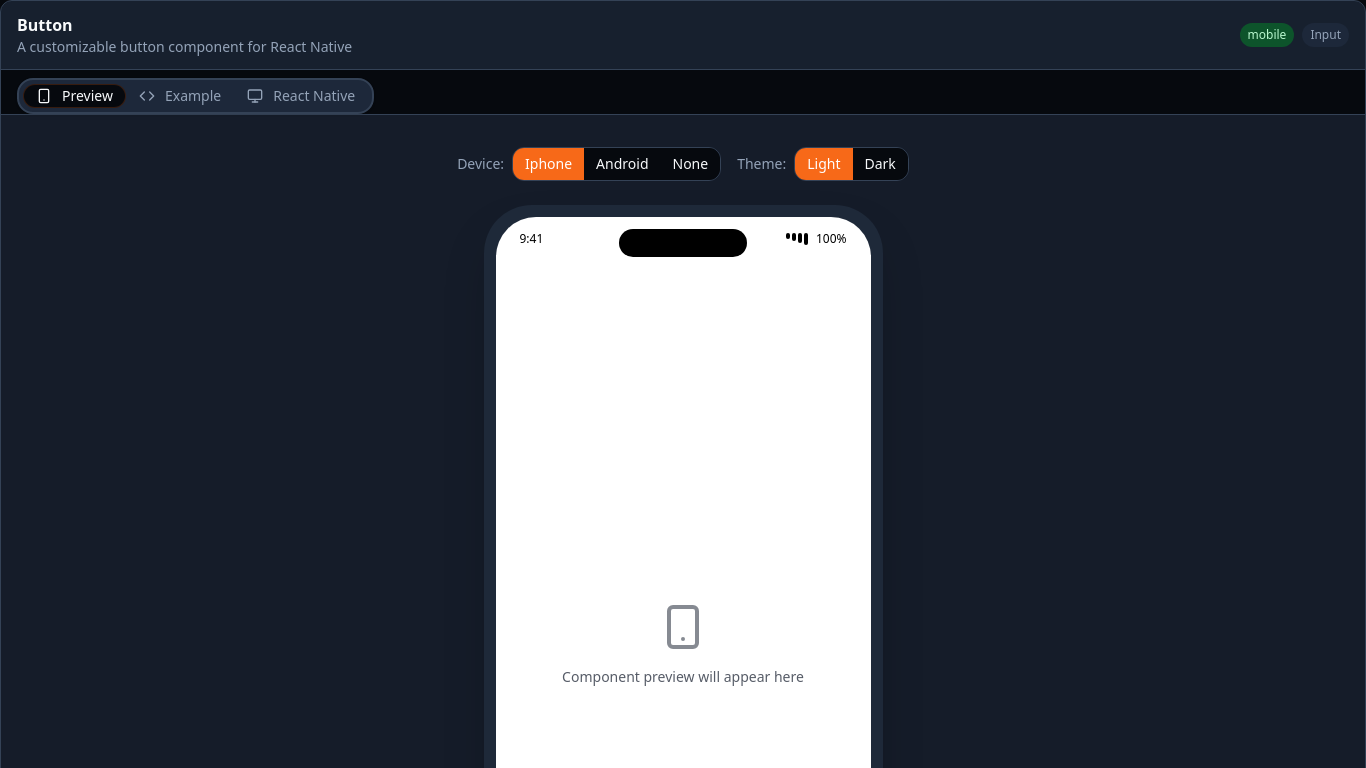
Test: MobileComponentPreview › displays template code when template tab is clicked
Click the tab "React Native".
click(301, 96)  # box x1=234 y1=84 x2=368 y2=108
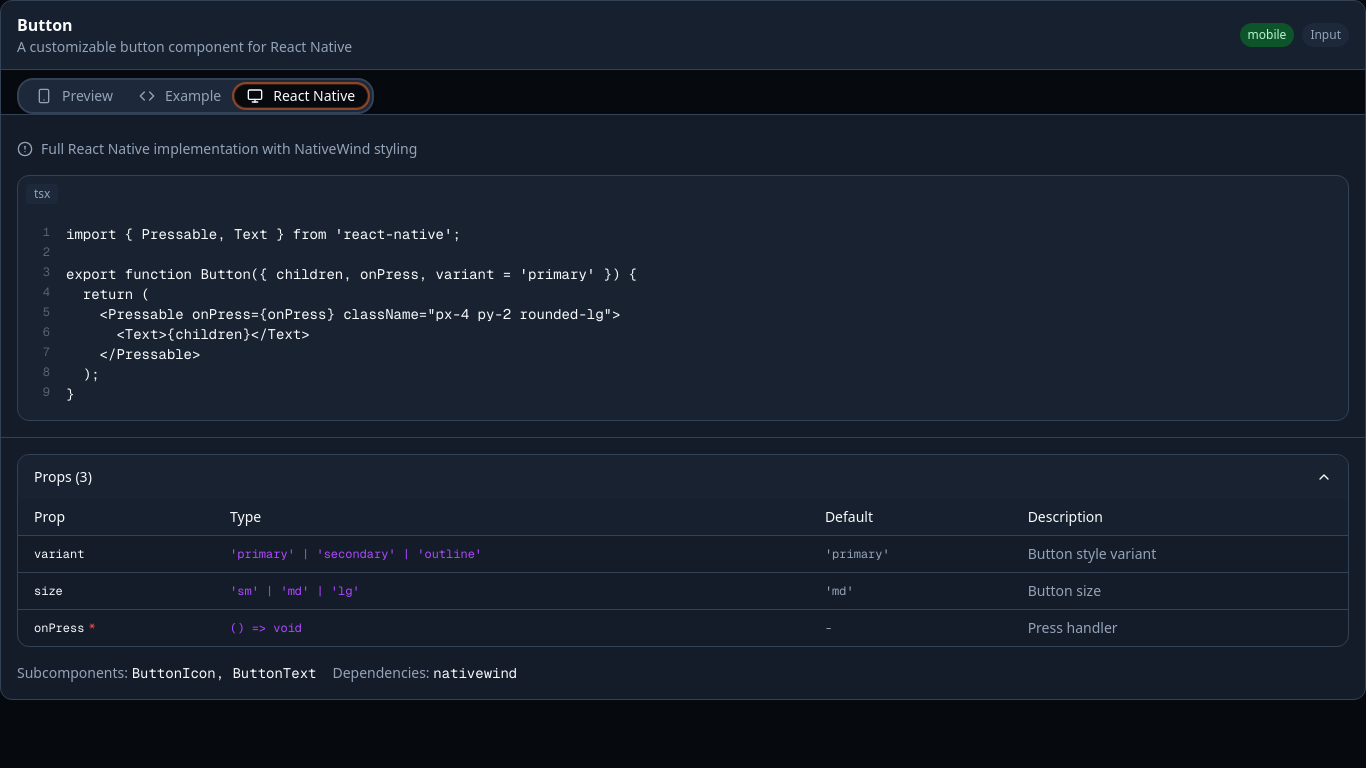
Check: the text "Full React Native implementation with NativeWind styling" is shown, box x1=41 y1=139 x2=417 y2=159
